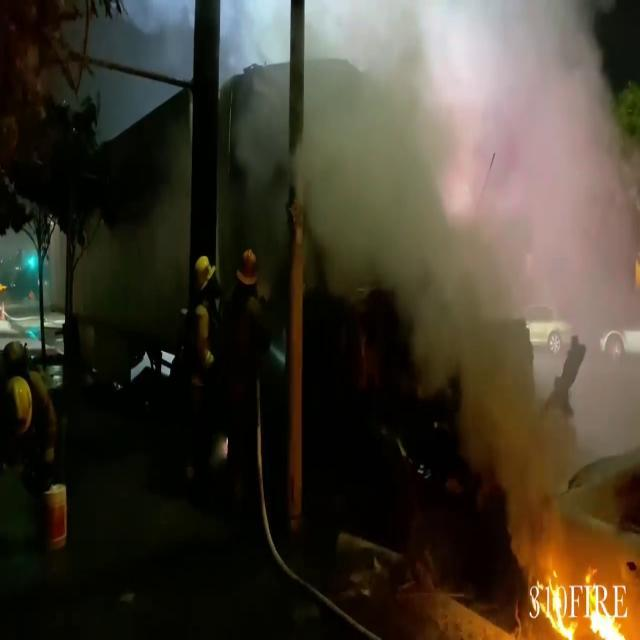Fire: (528, 559, 639, 640)
Smoke: (318, 0, 640, 513)
